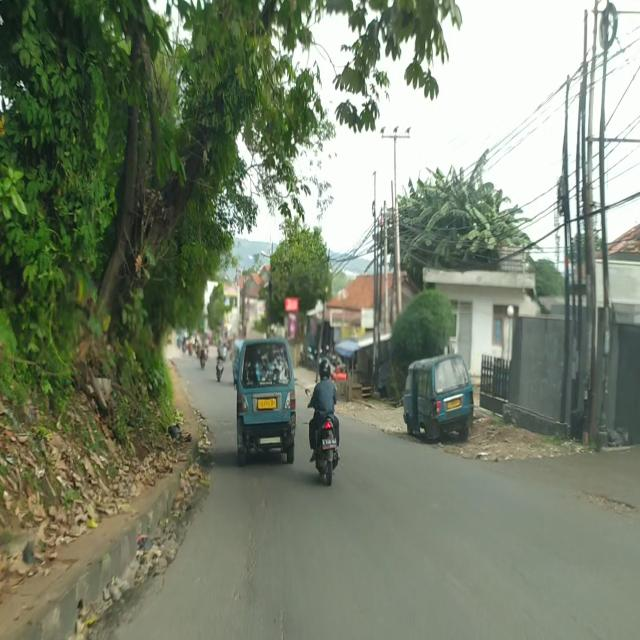Drain Hole: (235, 488, 288, 633)
